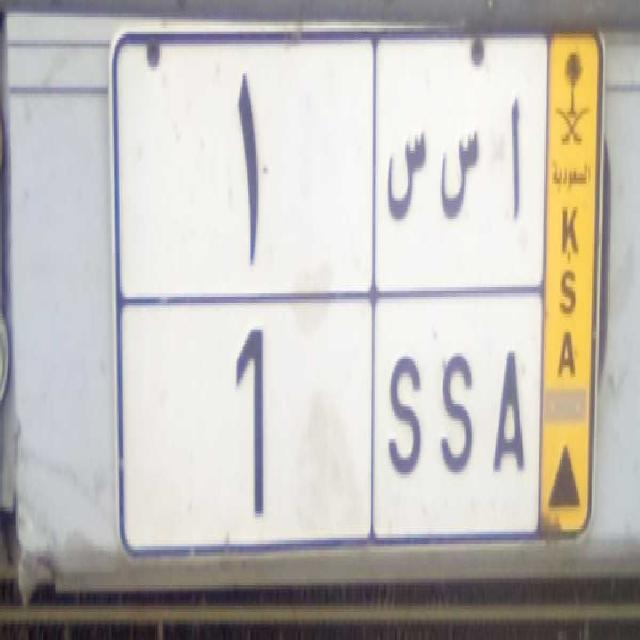license_plate: (146, 310, 536, 560)
